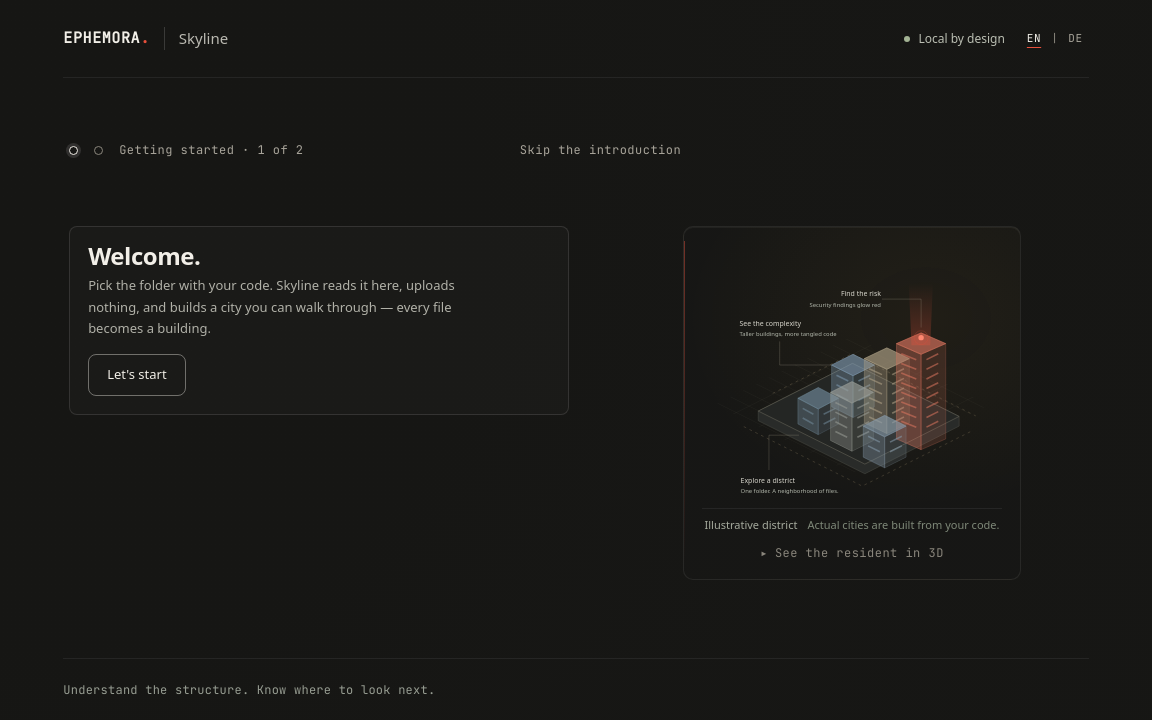
Test case: the welcome opens for a first run › folds away when the reader starts, and shows the short introduction
The width and height of the screenshot is (1152, 720).
Step 1. Click the button with class "landing-welcome-begin" → (137, 375), box x1=88 y1=354 x2=186 y2=396
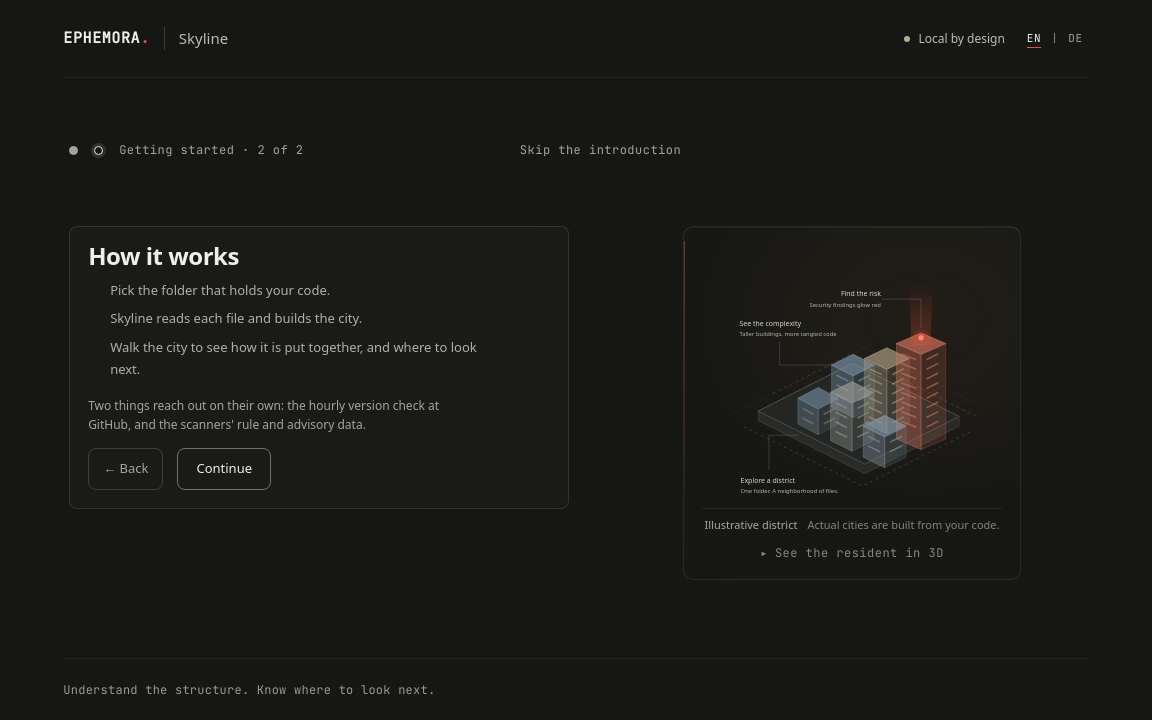
Expected: the element with class "landing-welcome" is gone
Expected: the element with class "landing-guide" is shown, x1=69 y1=226 x2=569 y2=509
